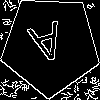A: (26, 20, 70, 74)
